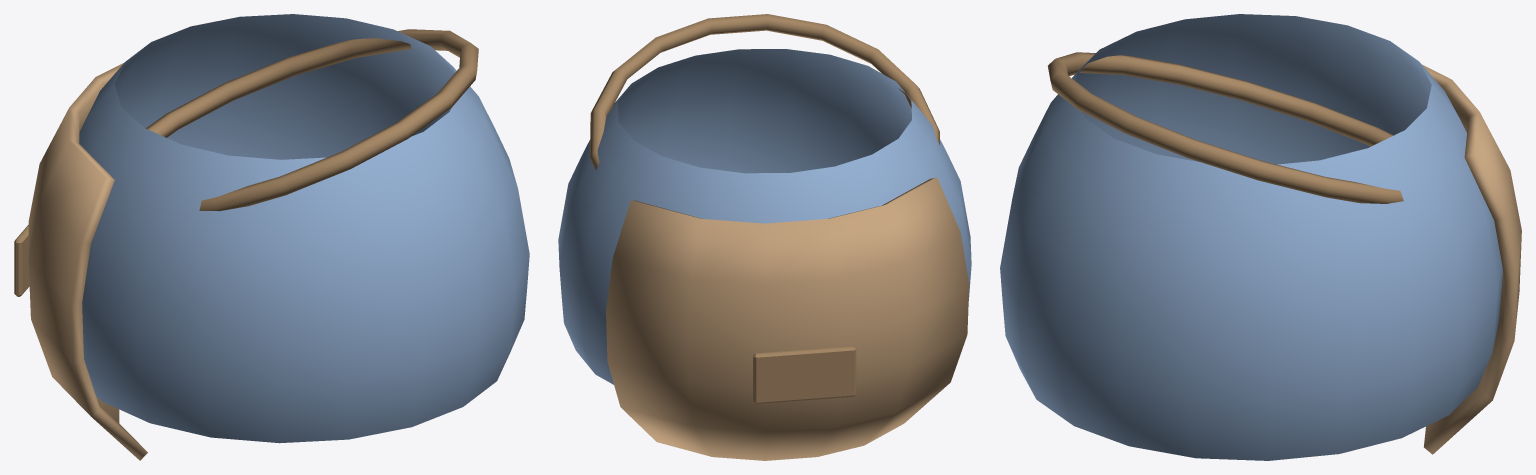
File: welder_chest.fbx
3 views of the same model, side by side, from view 1: azimuth 30°, elevation 25°; view 2: azimuth 150°, elevation 25°; view 3: azimuth 270°, elevation 25° (orthographic). The views are drawn at different scales.
Parts seen in each view (by area): view 1: welder_chest; view 2: welder_chest; view 3: welder_chest.
Boxes of the visible parts, left/top/right/bottom form: welder_chest: left=14, top=14, right=529, bottom=460; welder_chest: left=558, top=14, right=971, bottom=460; welder_chest: left=1000, top=14, right=1521, bottom=460.
Size of the model in its own units: 1.74 by 1.4 by 1.73.
